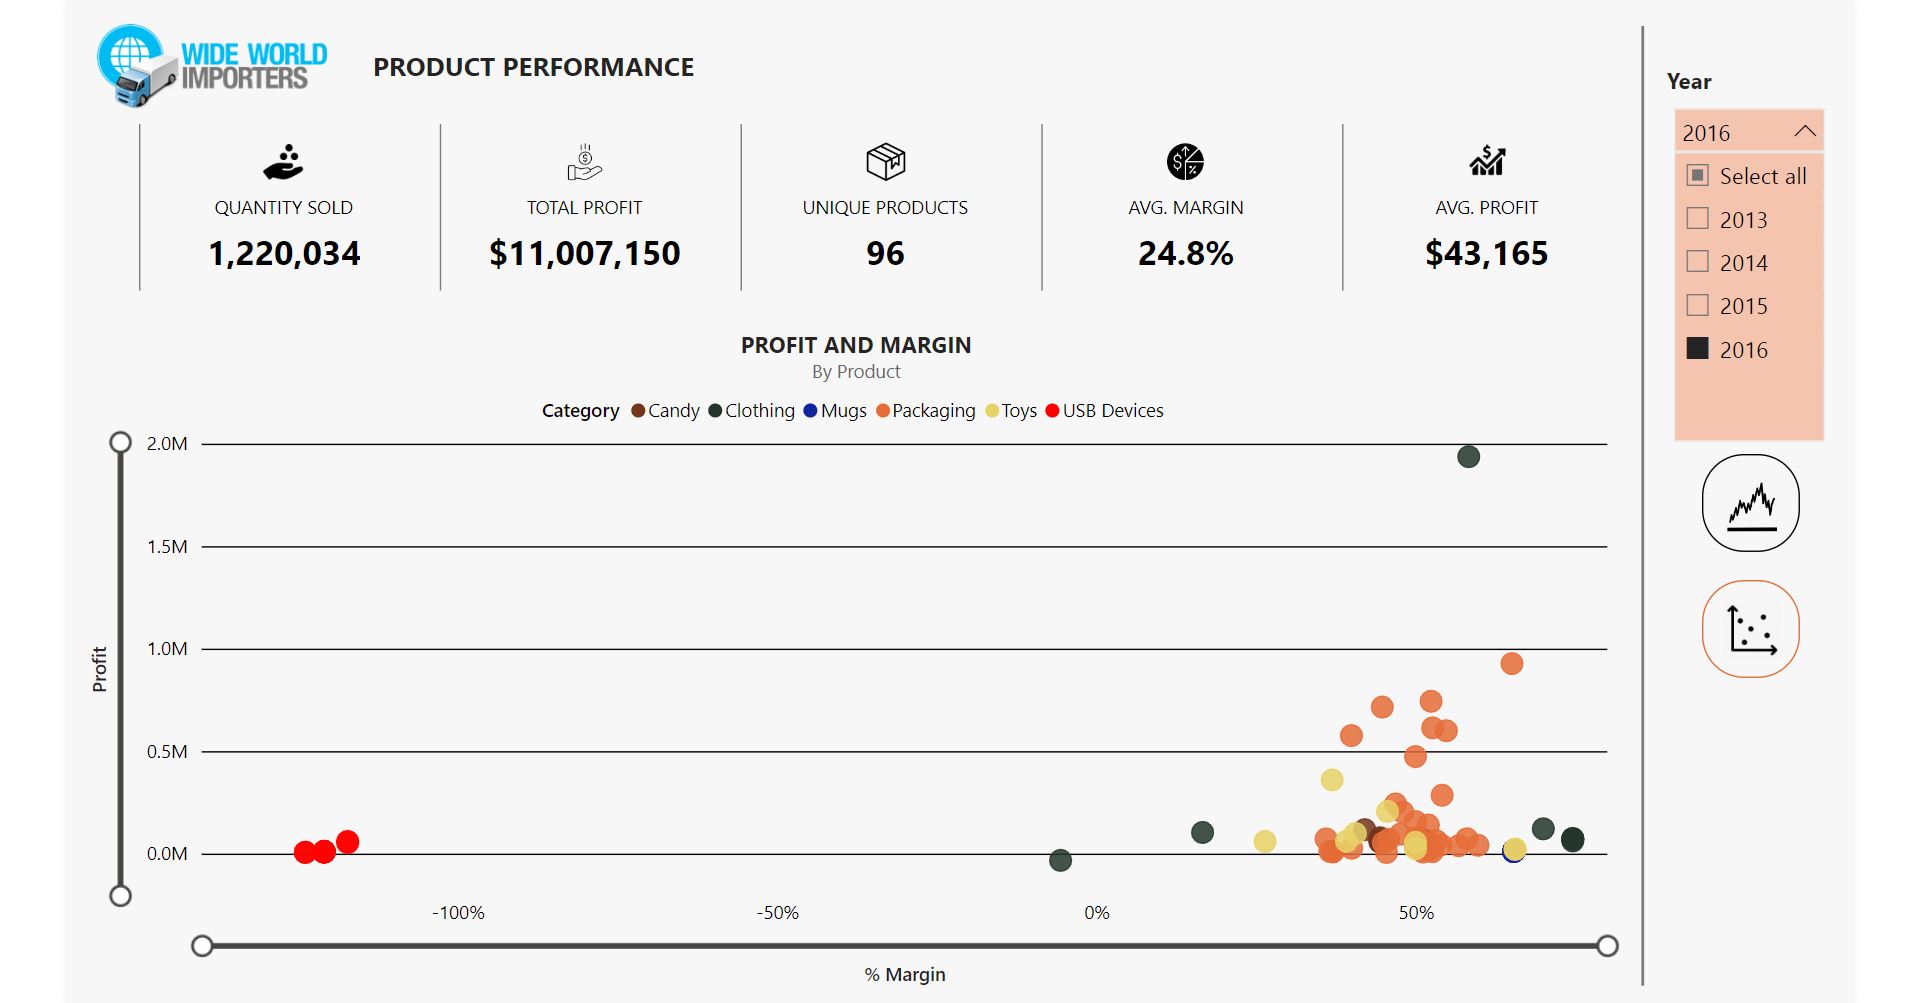

Layout of this report page (visuals, bound fields, positions):
{"tool":"powerbi","page":{"name":"Scatter Plot","canvas":[1280,720],"ordinal":2},"visuals":[{"type":"textbox","box":[215,29,550,49],"z":0},{"type":"image","box":[11,10,195,73],"z":1000},{"type":"shape","box":[1121.2,18.8,12.5,686],"z":2000},{"type":"scatterChart","title":"PROFIT AND MARGIN","fields":{"X":["Avg(product.PctMargin)"],"Category":["product.StockItemName"],"Series":["product.Category"],"Y":["Sum(product.LineProfit)"]},"box":[11,235,1110,470],"z":3000},{"type":"slicer","title":"Year","fields":{"Values":["product.Year"]},"box":[1140,46.6,128.1,66.3],"z":4000},{"type":"image","box":[1169.9,324.4,70,70],"z":5000},{"type":"image","box":[1169.5,234.6,70,70],"z":6000},{"type":"image","box":[1169.9,414.4,70,70],"z":7000},{"type":"cardVisual","fields":{"Data":["product.Quantity Sold","product.Total Profit","product.Unique Products","product.Average Margin","product.Average Profit"]},"box":[47.7,83.6,1080.6,129.4],"z":8000}]}

Visuals, with their boxes on the page's 1280x720 design canvas (x1, y1, x2, y2). These are canvas units, not pixel positions in the 1919x1003 screenshot, which may show the page scaled, cropped or inside an application window:
textbox: [left=215, top=29, right=765, bottom=78]
image: [left=11, top=10, right=206, bottom=83]
shape: [left=1121, top=19, right=1134, bottom=705]
"PROFIT AND MARGIN" scatterChart: [left=11, top=235, right=1121, bottom=705]
"Year" slicer: [left=1140, top=47, right=1268, bottom=113]
image: [left=1170, top=324, right=1240, bottom=394]
image: [left=1170, top=235, right=1240, bottom=305]
image: [left=1170, top=414, right=1240, bottom=484]
cardVisual - product.Quantity Sold x product.Total Profit: [left=48, top=84, right=1128, bottom=213]
